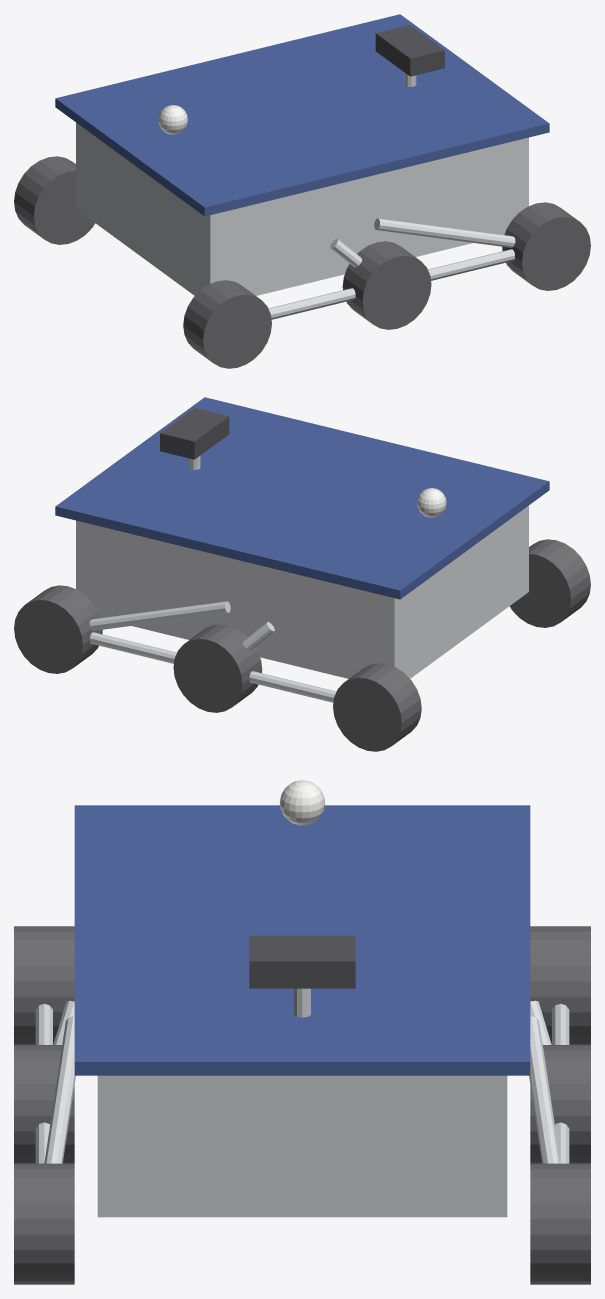
File: rover.glb
The picture shows the model from 3 angles, top to bottom: view 1: azimuth 30°, elevation 25°; view 2: azimuth 150°, elevation 25°; view 3: azimuth 270°, elevation 25°; orthographic projection. The views are drawn at different scales.
Visible parts, largest first — view 1: rover; view 2: rover; view 3: rover.
Boxes of the visible parts, x1,y1,x2,y2 form: rover: (14,14,590,368); rover: (14,397,590,751); rover: (14,780,590,1284).
Bounding box in the file's own units: 0.9 × 0.425 × 0.76.
